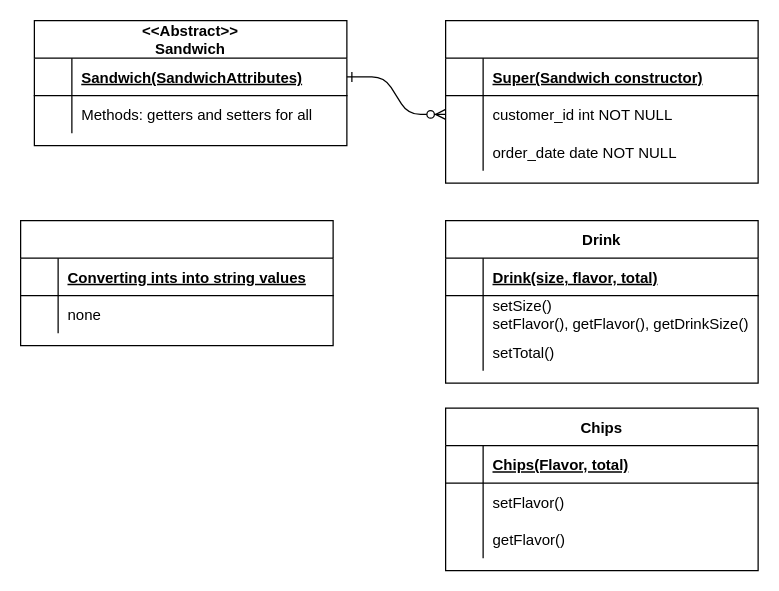
Image size: 779x591. Some labels were removed from this diagram. The box of each missing label's shape, as (x1, y1, x2, y2) in pixels:
Converter: (19, 219, 333, 346)
Sandwich Builder: (444, 19, 758, 183)
